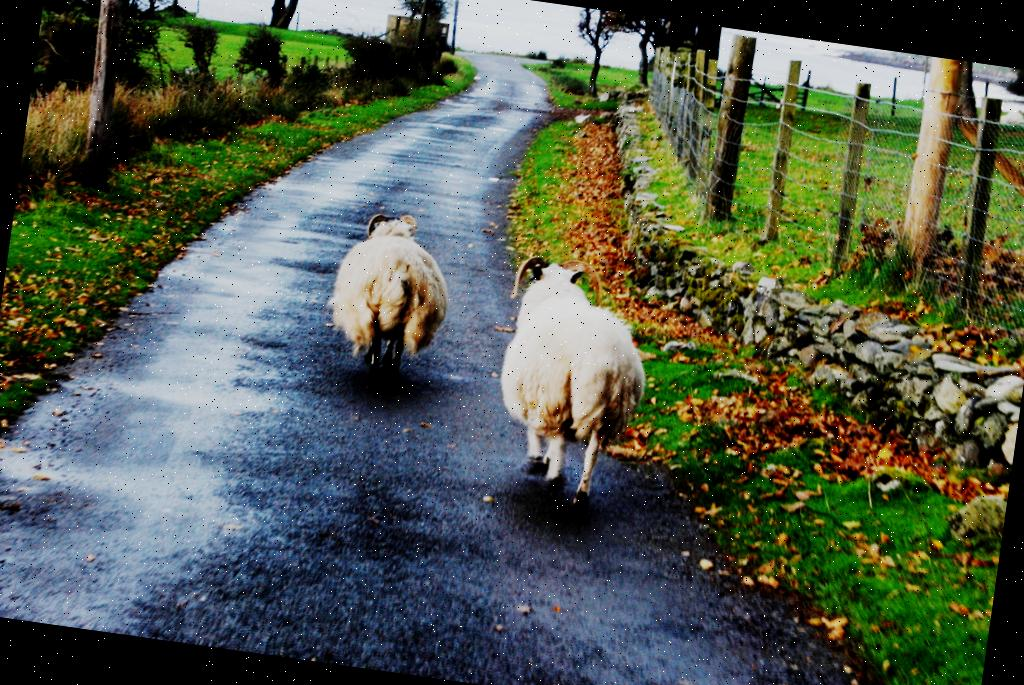Sheep: (483, 252, 660, 511), (316, 202, 460, 379)
